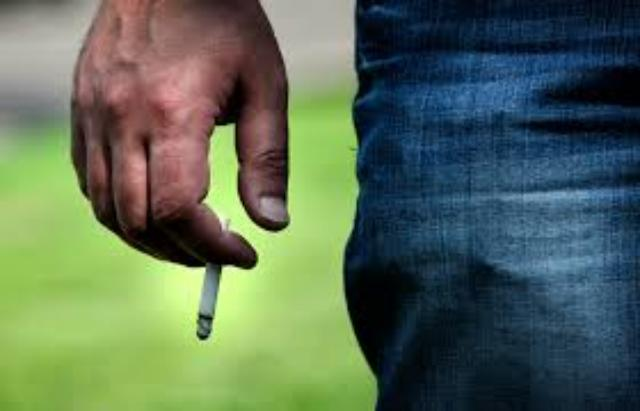Cigarette: (196, 219, 232, 343)
